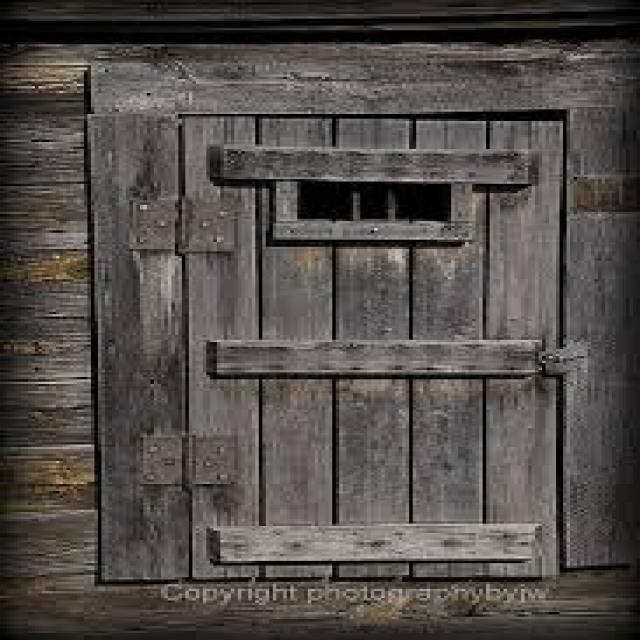door: (88, 65, 567, 573)
